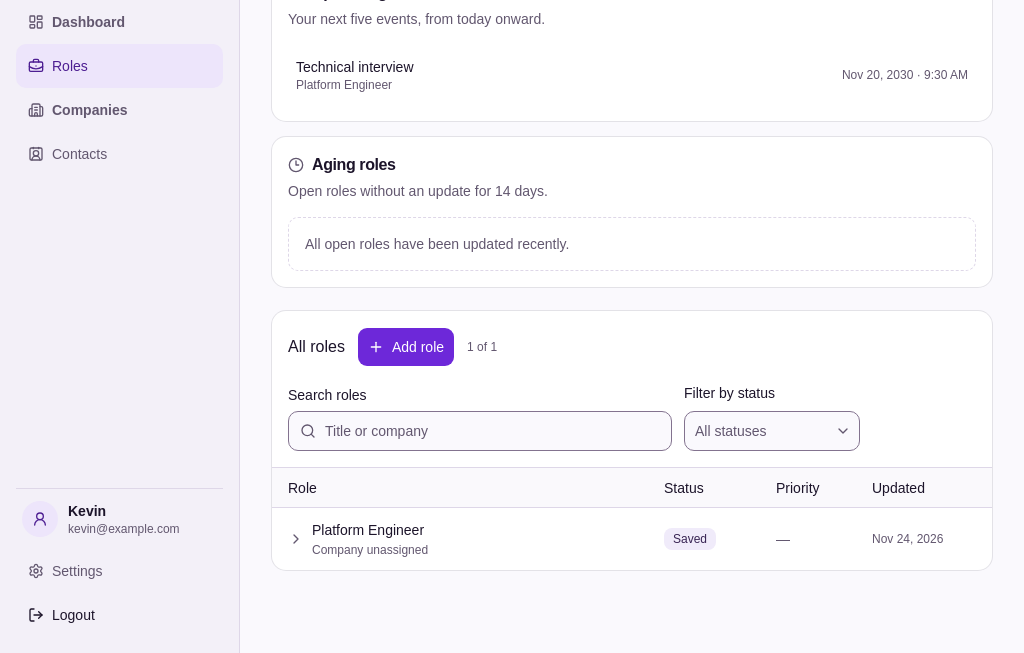
Test: keeps edits after a failed save, then clears optional fields through PATCH
The image size is (1024, 653).
Click the button "Platform Engineer Company unassigned". click: (368, 530)
box: [288,520,640,558]
(page scrolled)
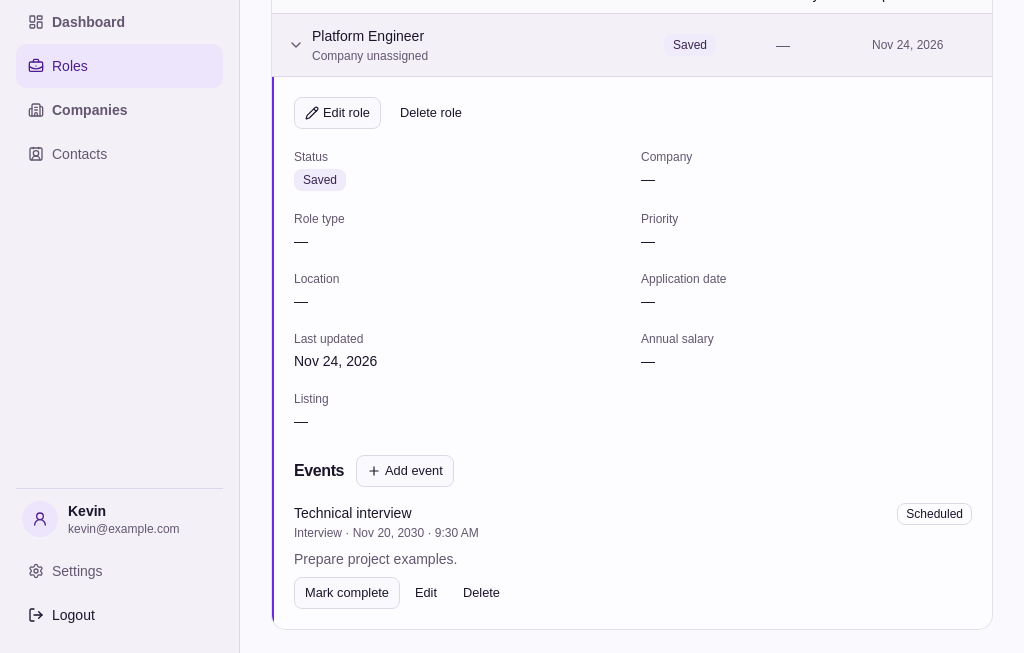
Expected: the heading "Technical interview" is shown, [294,505,412,521]
Click the button with aria-label "Edit Technical interview". click: (426, 593)
box: [404,577,448,609]
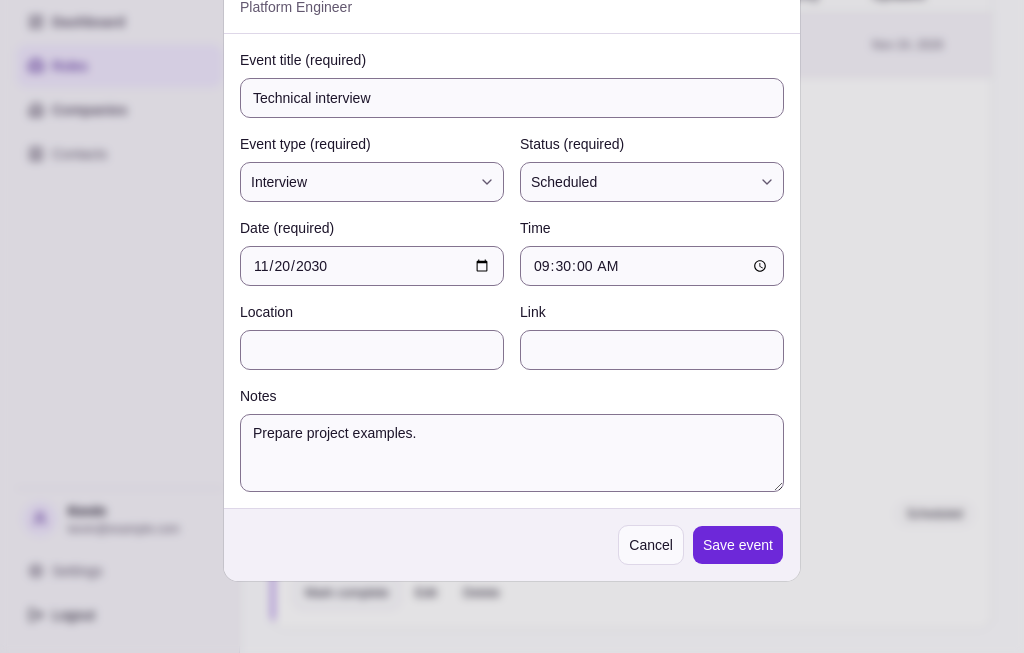
Replace the text in the field labelled "Event title (required)" with "Final interview". click: (512, 98)
box: [240,78,784,118]
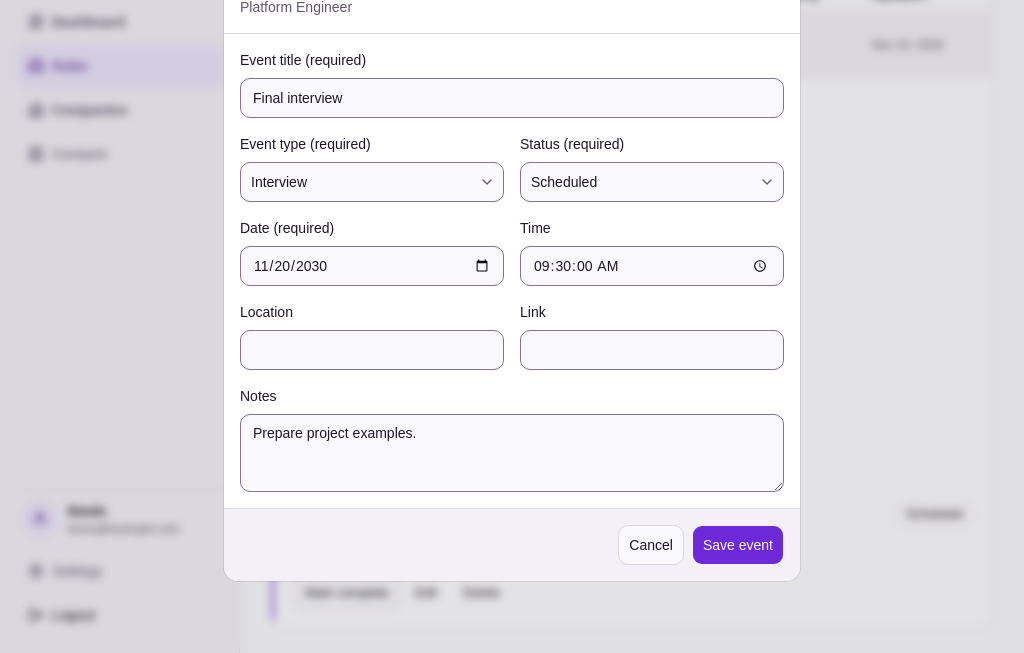
Clear the text box labelled "Notes". click: (512, 453)
box: [240,414,784,492]
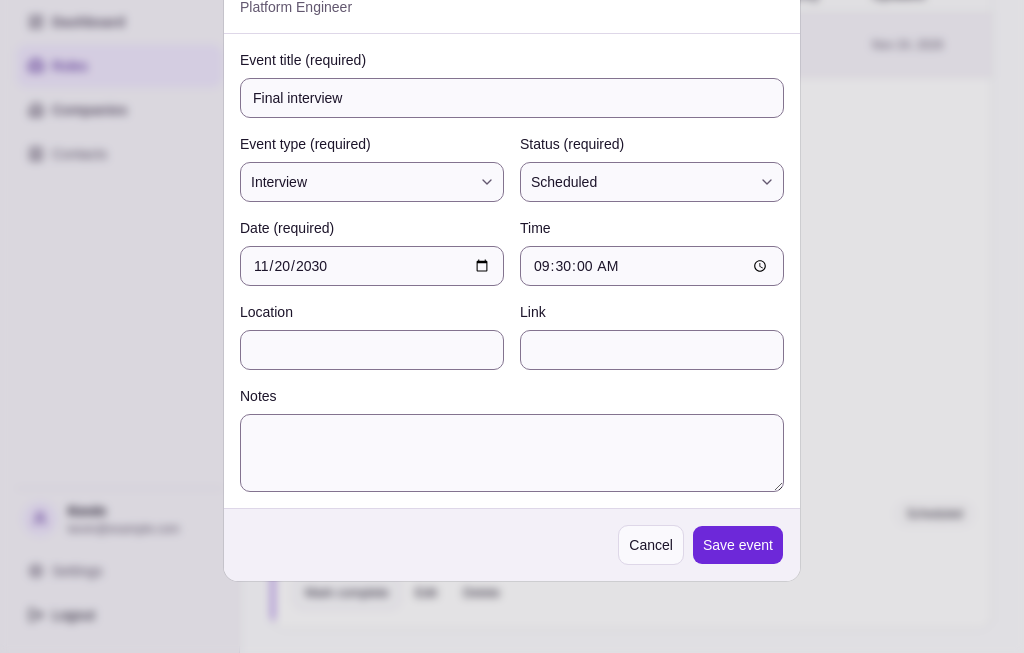
Click the button "Save event". click: (738, 545)
box: [692,525,784,565]
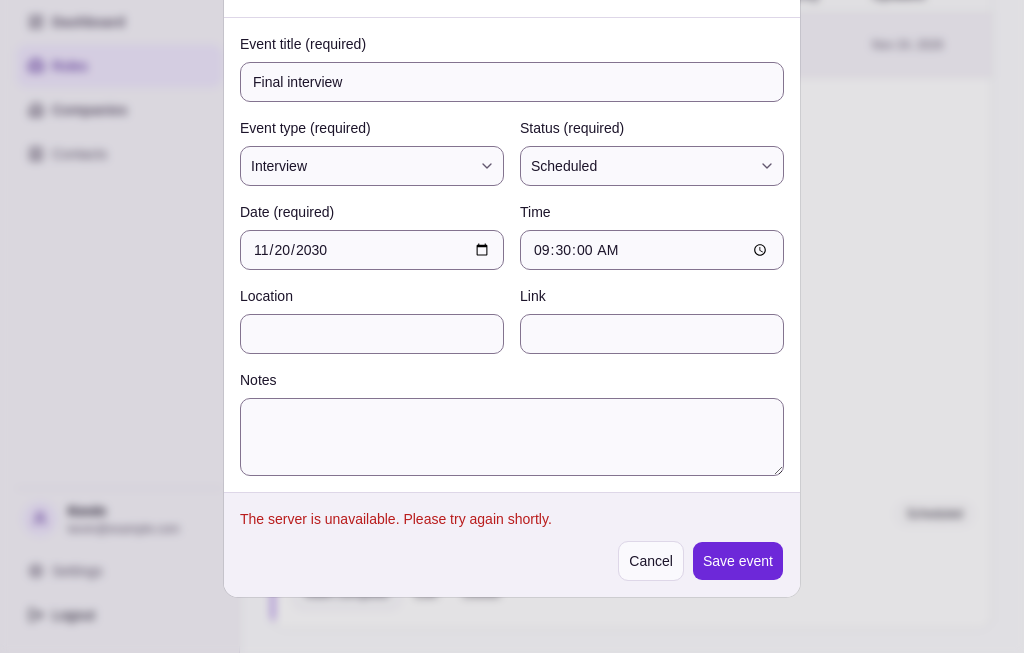
Expected: the message shows "unavailable", [240,511,552,527]
Click the button "Save event". click: (738, 561)
box: [692,541,784,581]
(page scrolled)
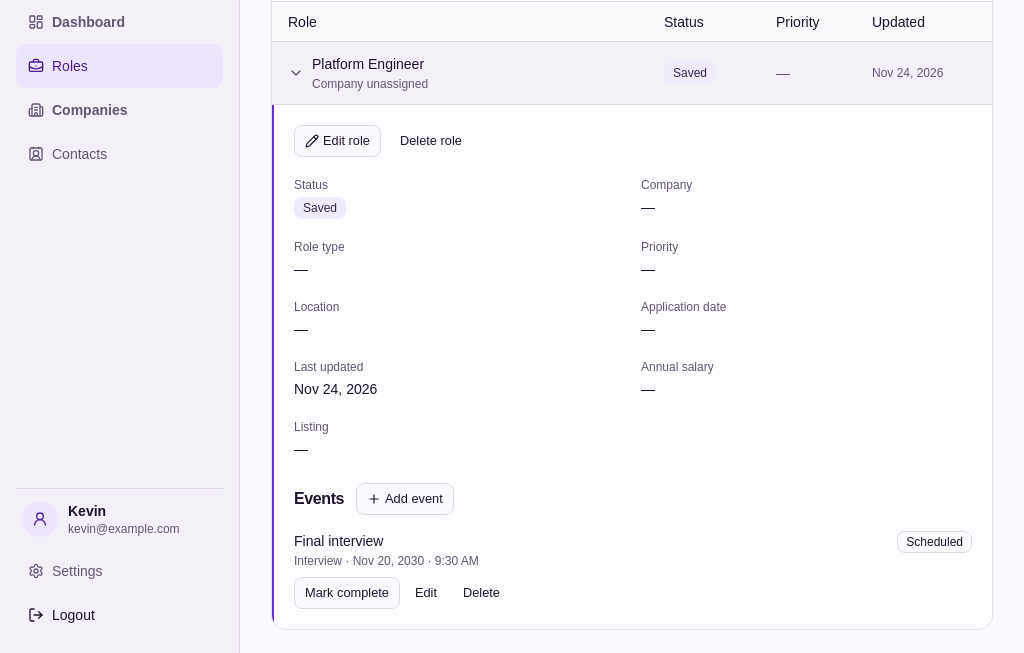
Expected: the heading "Final interview" is shown, [294,533,384,549]
